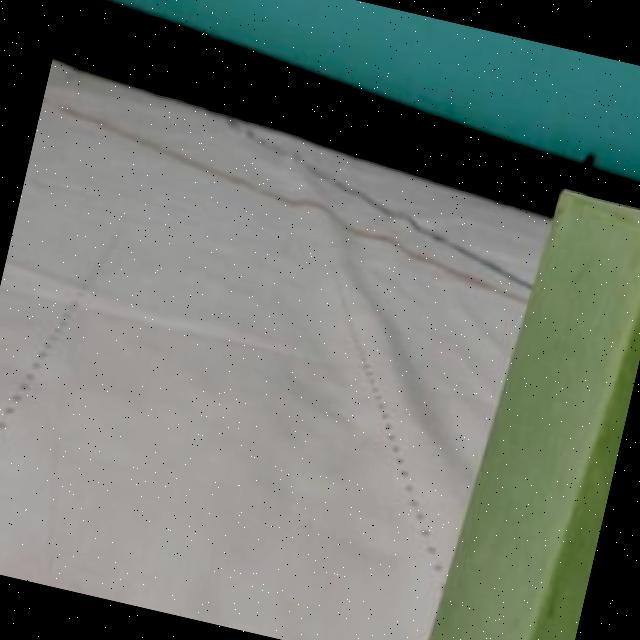greenbox: (413, 173, 640, 640)
